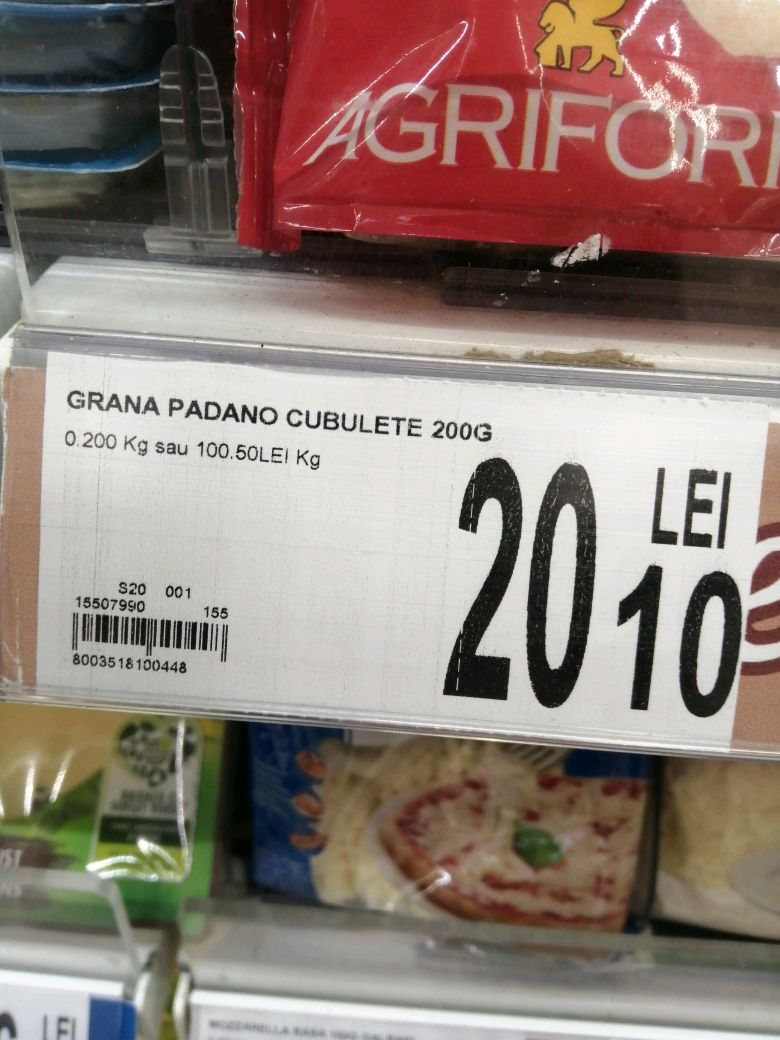price_bani: (607, 558, 753, 723)
price_lei: (433, 451, 603, 707)
price_tag: (23, 338, 774, 781)
product_id: (65, 650, 186, 678)
product_name: (55, 378, 511, 446)
